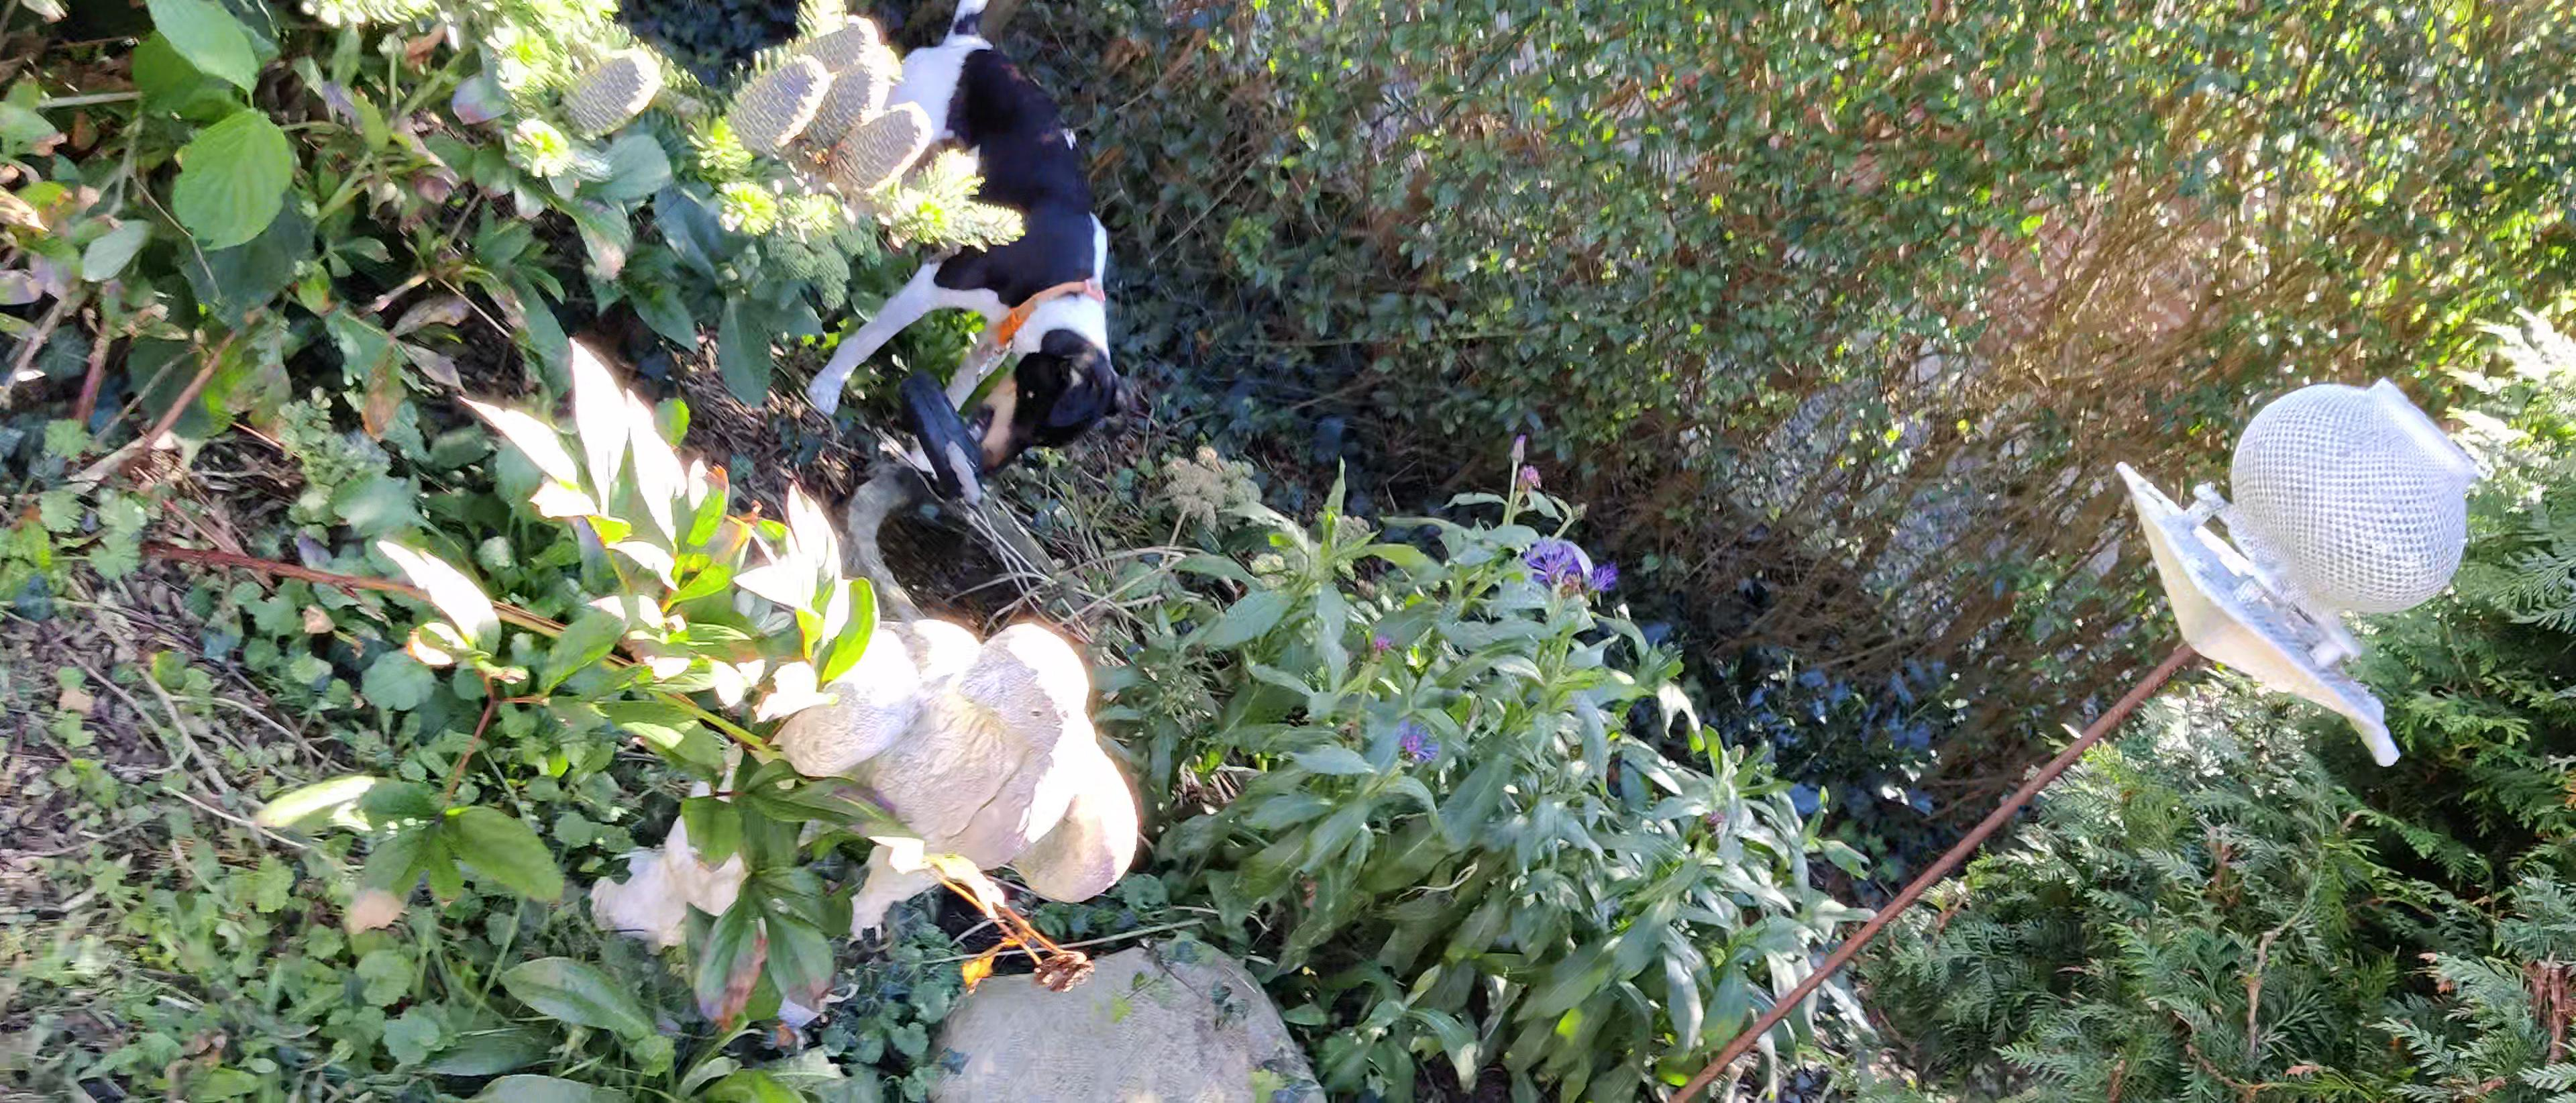Dog: (798, 0, 1142, 483)
